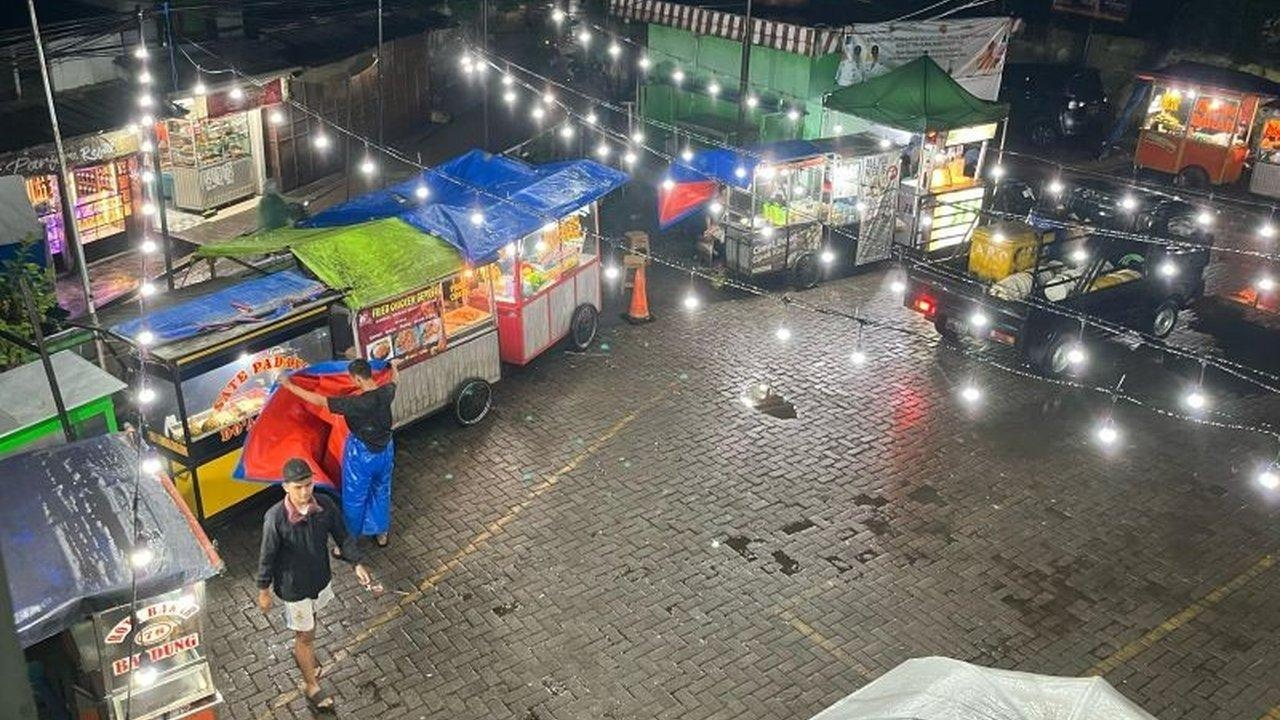Gerobak: (320, 148, 627, 364), (0, 428, 224, 716), (109, 263, 352, 526), (282, 212, 506, 432), (659, 140, 902, 292), (1120, 61, 1274, 194)
Terpal: (819, 54, 1011, 256)
